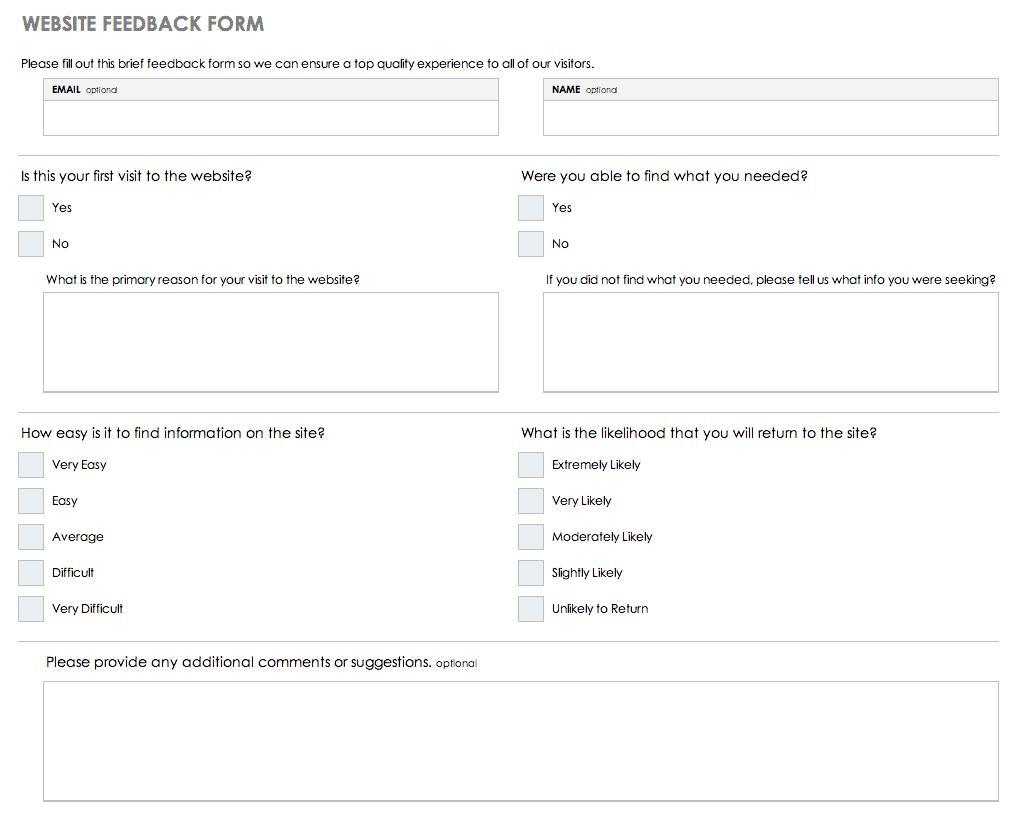checkbox: (519, 452, 547, 480), (519, 231, 547, 258), (519, 526, 546, 553), (19, 195, 45, 221), (18, 526, 44, 552), (520, 560, 544, 588), (20, 561, 45, 587), (20, 598, 45, 623), (520, 197, 544, 223), (520, 490, 544, 516), (519, 598, 545, 622), (20, 453, 44, 478), (20, 232, 43, 258), (20, 489, 43, 514)
input: (544, 102, 999, 139), (46, 100, 500, 137)
label: (42, 650, 485, 676), (43, 268, 366, 291), (544, 275, 1002, 290), (548, 528, 657, 547), (553, 455, 644, 477), (553, 599, 651, 619), (50, 79, 121, 99), (553, 562, 624, 582), (53, 602, 127, 621), (552, 490, 617, 511), (548, 81, 625, 98), (53, 526, 107, 549), (53, 457, 111, 477), (53, 563, 99, 583), (49, 491, 83, 514), (551, 197, 576, 221), (551, 233, 576, 254), (51, 200, 78, 219), (50, 236, 74, 254)
